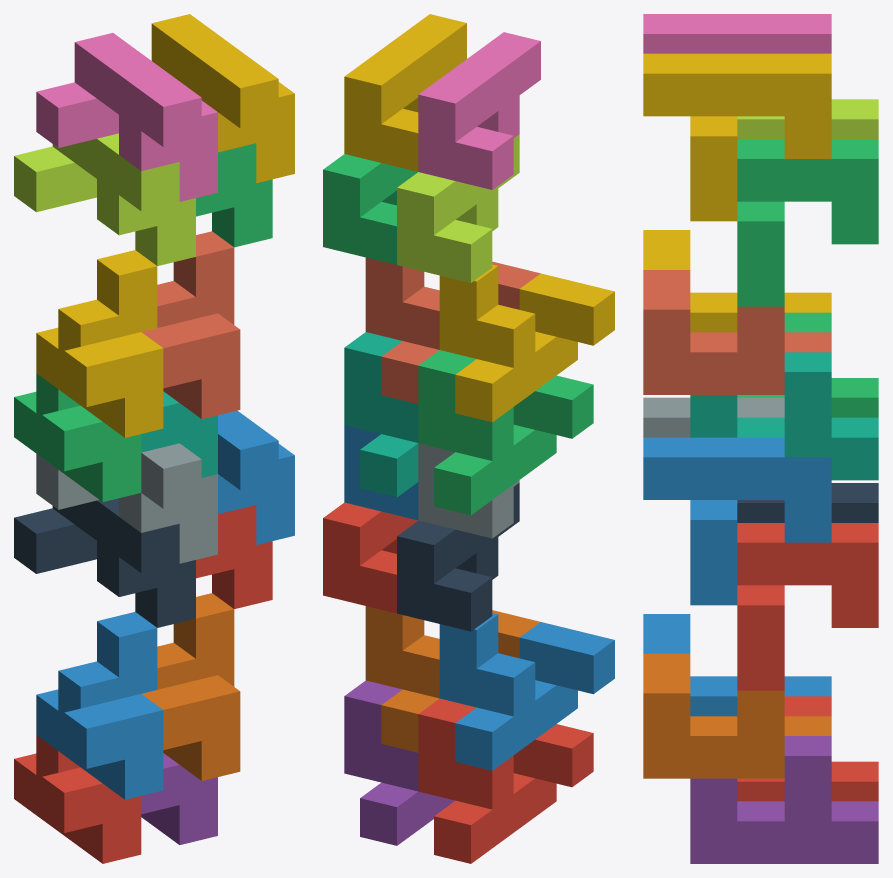
The model's file is tiling.obj.
3 views of the same model, side by side, from view 1: azimuth 30°, elevation 25°; view 2: azimuth 150°, elevation 25°; view 3: azimuth 270°, elevation 25° (orthographic). The views are drawn at different scales.
Visible parts, largest first — view 1: copy_2_domain_4, copy_1_domain_2, copy_1_domain_4, copy_2_domain_3, copy_2_domain_1, copy_1_domain_8, copy_1_domain_6, copy_2_domain_8, copy_2_domain_2, copy_1_domain_1, copy_1_domain_3, copy_2_domain_6 (+4 smaller); view 2: copy_1_domain_4, copy_1_domain_2, copy_1_domain_3, copy_1_domain_1, copy_2_domain_4, copy_2_domain_8, copy_2_domain_1, copy_2_domain_3, copy_1_domain_5, copy_1_domain_6, copy_1_domain_8, copy_1_domain_7 (+4 smaller); view 3: copy_2_domain_8, copy_2_domain_6, copy_1_domain_5, copy_2_domain_7, copy_2_domain_5, copy_1_domain_6, copy_1_domain_8, copy_1_domain_7, copy_2_domain_4, copy_1_domain_2, copy_1_domain_4, copy_1_domain_1 (+4 smaller).
Part boxes in pixels (x1,y1,x2,y2): copy_2_domain_4: [36, 33, 217, 201]; copy_1_domain_2: [36, 612, 163, 799]; copy_1_domain_4: [36, 250, 163, 437]; copy_2_domain_3: [14, 133, 195, 265]; copy_2_domain_1: [14, 498, 195, 627]; copy_1_domain_8: [141, 231, 240, 418]; copy_1_domain_6: [141, 593, 240, 780]; copy_2_domain_8: [151, 14, 294, 183]; copy_2_domain_2: [36, 443, 217, 563]; copy_1_domain_1: [14, 735, 141, 863]; copy_1_domain_3: [14, 373, 141, 501]; copy_2_domain_6: [218, 410, 294, 544]; copy_1_domain_4: [439, 264, 614, 422]; copy_1_domain_2: [439, 613, 614, 770]; copy_1_domain_3: [418, 350, 593, 515]; copy_1_domain_1: [418, 698, 593, 863]; copy_2_domain_4: [418, 32, 540, 189]; copy_2_domain_8: [344, 14, 466, 171]; copy_2_domain_1: [397, 483, 519, 631]; copy_2_domain_3: [397, 134, 519, 282]; copy_1_domain_5: [344, 680, 454, 845]; copy_1_domain_6: [365, 606, 540, 752]; copy_1_domain_8: [365, 257, 540, 403]; copy_1_domain_7: [344, 332, 418, 497]; copy_2_domain_8: [643, 53, 831, 221]; copy_2_domain_6: [643, 437, 831, 605]; copy_1_domain_5: [690, 736, 878, 863]; copy_2_domain_7: [737, 139, 878, 306]; copy_2_domain_5: [737, 523, 878, 690]; copy_1_domain_6: [643, 653, 831, 778]; copy_1_domain_8: [643, 270, 831, 394]; copy_1_domain_7: [690, 352, 878, 480]; copy_2_domain_4: [643, 14, 831, 53]; copy_1_domain_2: [643, 614, 831, 716]; copy_1_domain_4: [643, 230, 831, 332]; copy_1_domain_1: [737, 696, 878, 801].
Size of the model in its own units: 6 by 19 by 5.
